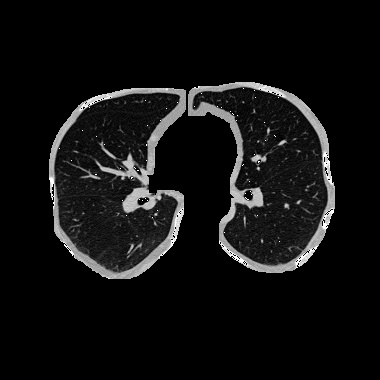PN: (284, 203, 288, 207)
